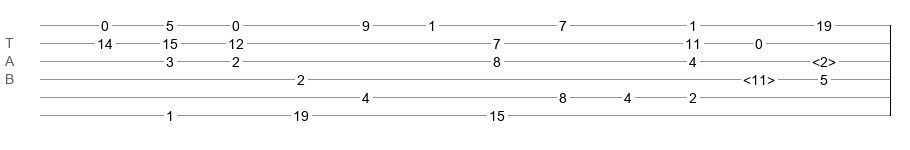0: (101, 18, 109, 28), (232, 18, 240, 28), (755, 36, 763, 46)
1: (166, 108, 174, 118), (428, 18, 436, 28), (689, 18, 697, 28)
11: (685, 36, 701, 46)
12: (228, 36, 244, 46)
14: (97, 36, 113, 46)
15: (162, 36, 178, 46), (489, 108, 505, 118)
19: (293, 108, 309, 118), (816, 18, 832, 28)
2: (232, 54, 240, 64), (297, 72, 305, 82), (689, 90, 697, 100)
3: (166, 54, 174, 64)
4: (362, 90, 370, 100), (624, 90, 632, 100), (689, 54, 697, 64)
5: (166, 18, 174, 28), (820, 72, 828, 82)
7: (493, 36, 501, 46), (559, 18, 567, 28)
8: (493, 54, 501, 64), (559, 90, 567, 100)
9: (362, 18, 370, 28)
harmonic: (743, 72, 775, 82), (812, 54, 836, 64)
